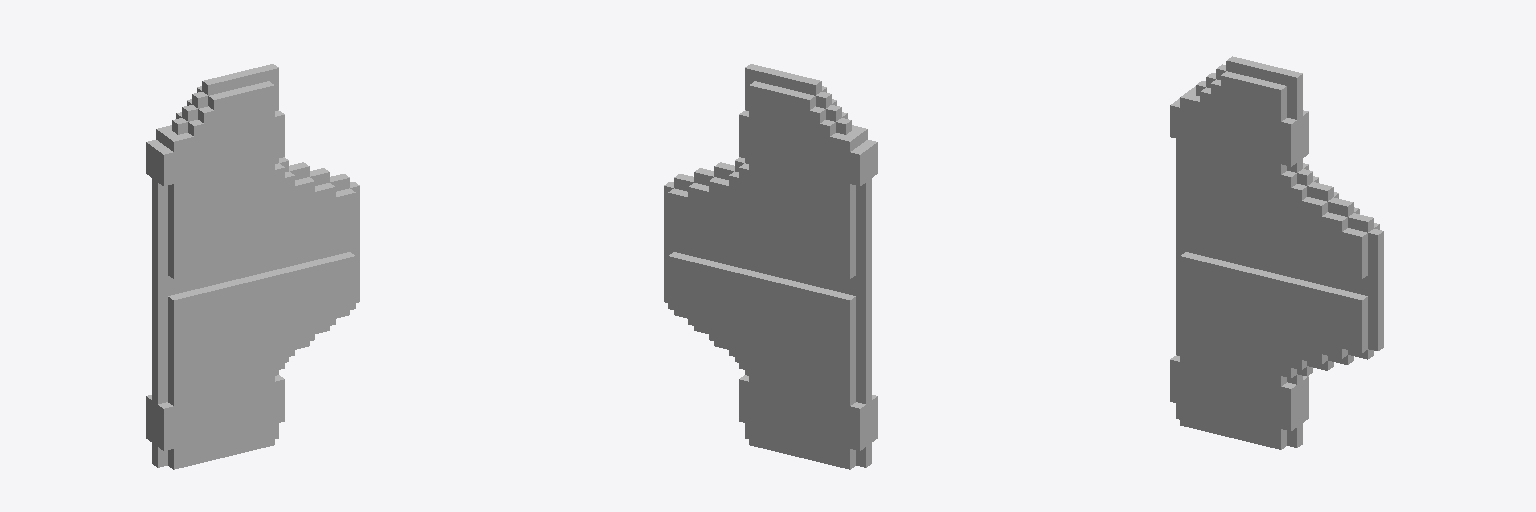
File: Architeture1-9.obj
3 renders of one model, left to right at view 1: azimuth 30°, elevation 25°; view 2: azimuth 150°, elevation 25°; view 3: azimuth 330°, elevation 25°, orthographic.
Parts seen in each view (by area): view 1: object 1; view 2: object 1; view 3: object 1.
Part boxes in pixels (x1,y1,x2,y2): object 1: (146,64,359,469); object 1: (664,64,877,469); object 1: (1170,56,1383,449).
Bounding box in the file's own units: 2 × 3.5 × 0.3.